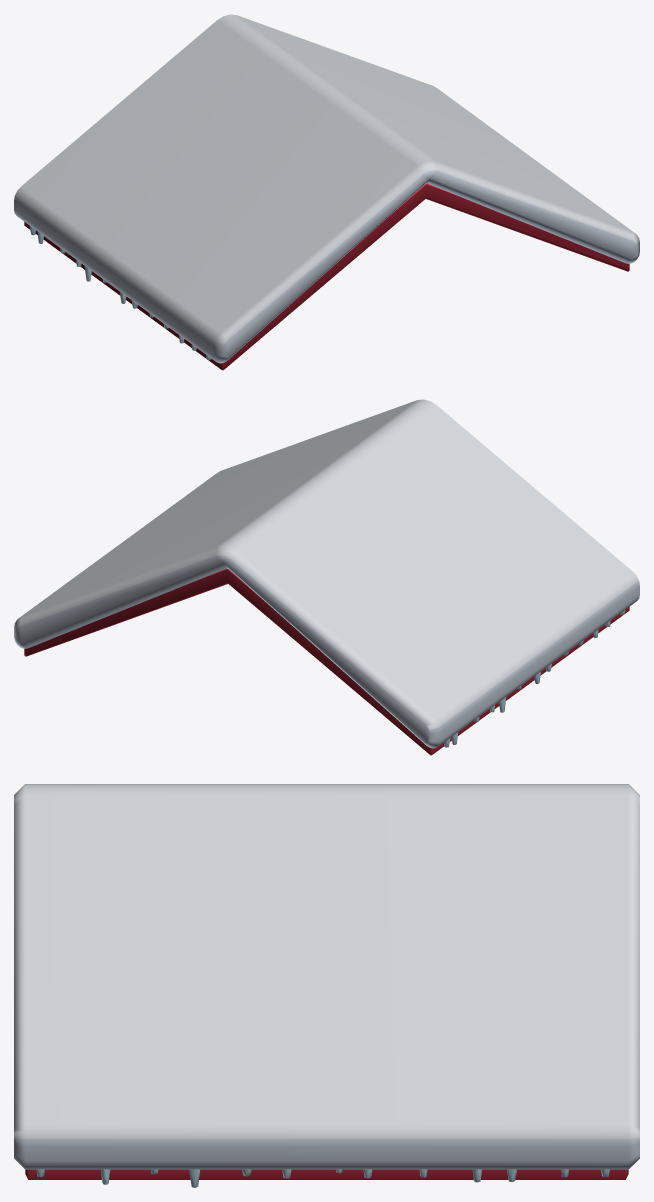
Rendered from CandyHouse_Bungalow_Roof.glb.
3 views of the same model, one above another, from view 1: azimuth 30°, elevation 25°; view 2: azimuth 150°, elevation 25°; view 3: azimuth 270°, elevation 25° (orthographic). The views are drawn at different scales.
Visible parts, largest first — view 1: CandyHouse_Bungalow_Roof; view 2: CandyHouse_Bungalow_Roof; view 3: CandyHouse_Bungalow_Roof.
Part boxes in pixels (x1,y1,x2,y2): CandyHouse_Bungalow_Roof: (14, 14, 639, 370); CandyHouse_Bungalow_Roof: (14, 399, 639, 755); CandyHouse_Bungalow_Roof: (14, 784, 639, 1187).
Size of the model in its own units: 23.2 by 8.58 by 19.5.
